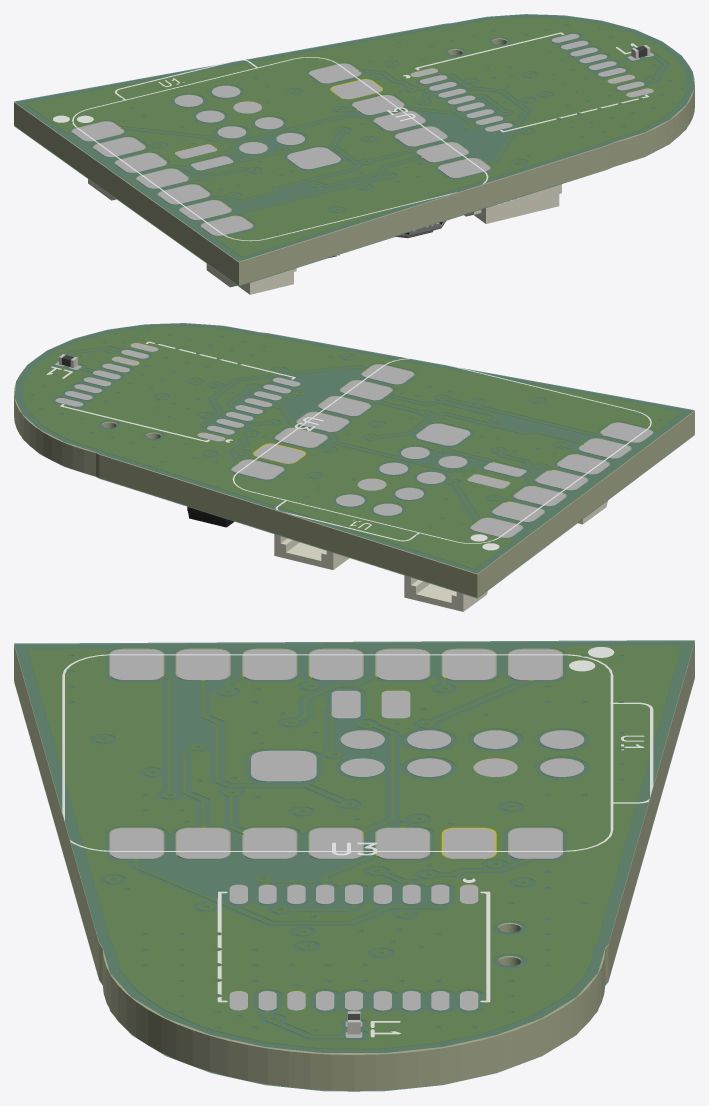
File: wherewatch-carrier.glb
The picture shows the model from 3 angles, top to bottom: view 1: azimuth 30°, elevation 25°; view 2: azimuth 150°, elevation 25°; view 3: azimuth 270°, elevation 25°; orthographic projection. The views are drawn at different scales.
Parts seen in each view (by area): view 1: =>[0:1:1:29], =>[0:1:1:24], =>[0:1:1:31], =>[0:1:1:25], =>[0:1:1:27], =>[0:1:1:23], =>[0:1:1:7], =>[0:1:1:30]; view 2: =>[0:1:1:29], =>[0:1:1:24], =>[0:1:1:31], =>[0:1:1:25], =>[0:1:1:7] (×2), =>[0:1:1:27], =>[0:1:1:30], =>[0:1:1:19]; view 3: =>[0:1:1:29], =>[0:1:1:24], =>[0:1:1:31], =>[0:1:1:25], =>[0:1:1:27], =>[0:1:1:30].
Boxes of the visible parts, left/top/right/bottom form: =>[0:1:1:29]: left=14, top=14, right=694, bottom=261; =>[0:1:1:24]: left=26, top=18, right=686, bottom=256; =>[0:1:1:31]: left=14, top=15, right=694, bottom=285; =>[0:1:1:25]: left=72, top=34, right=653, bottom=235; =>[0:1:1:27]: left=53, top=32, right=648, bottom=241; =>[0:1:1:23]: left=464, top=184, right=561, bottom=223; =>[0:1:1:7]: left=206, top=264, right=296, bottom=294; =>[0:1:1:30]: left=14, top=126, right=687, bottom=286; =>[0:1:1:29]: left=14, top=323, right=694, bottom=573; =>[0:1:1:24]: left=22, top=327, right=681, bottom=568; =>[0:1:1:31]: left=14, top=324, right=694, bottom=597; =>[0:1:1:25]: left=55, top=343, right=652, bottom=537; =>[0:1:1:7] (×2): left=274, top=534, right=487, bottom=611; =>[0:1:1:27]: left=46, top=341, right=651, bottom=550; =>[0:1:1:30]: left=22, top=435, right=694, bottom=598; =>[0:1:1:19]: left=187, top=506, right=234, bottom=527; =>[0:1:1:29]: left=14, top=640, right=694, bottom=1052; =>[0:1:1:24]: left=28, top=646, right=680, bottom=1048; =>[0:1:1:31]: left=14, top=641, right=694, bottom=1090; =>[0:1:1:25]: left=110, top=649, right=584, bottom=1038; =>[0:1:1:27]: left=62, top=647, right=653, bottom=1037; =>[0:1:1:30]: left=14, top=678, right=694, bottom=1091.
Size of the model in its own units: 0.0374 by 0.00514 by 0.026.
